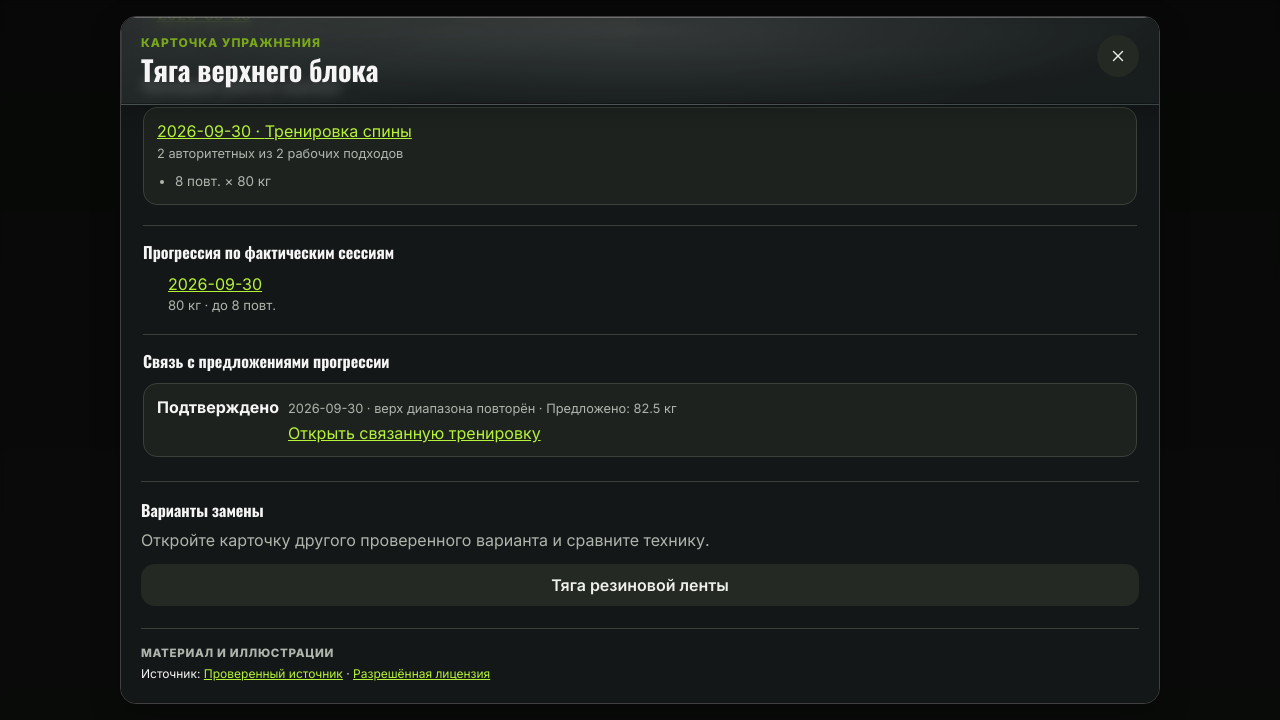
ExerciseGuideDialog › shows reviewed guide metadata and opens an alternative in the same dialog
The image size is (1280, 720).
(page scrolled)
Expected: the text "2026-09-30 · верх диапазона повторён · Предложено: 82.5 кг" is shown, [288,401,676,416]
Click the button "Тяга резиновой ленты": (640, 585) [141,564,1139,606]
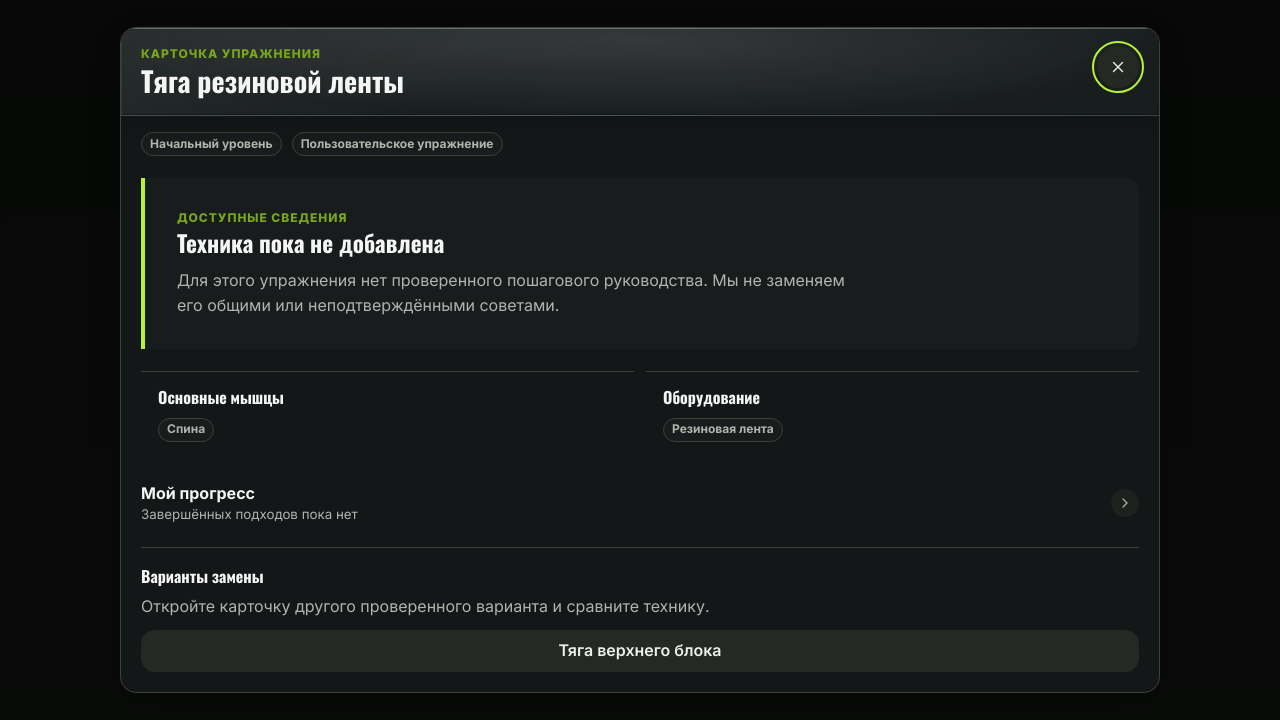
Expected: the heading "Техника пока не добавлена" is shown, [177,231,444,259]
Expected: the text "Пользовательское упражнение" is shown, [292,132,503,156]
Expected: the text "Резиновая лента" is shown, [663,418,783,442]
